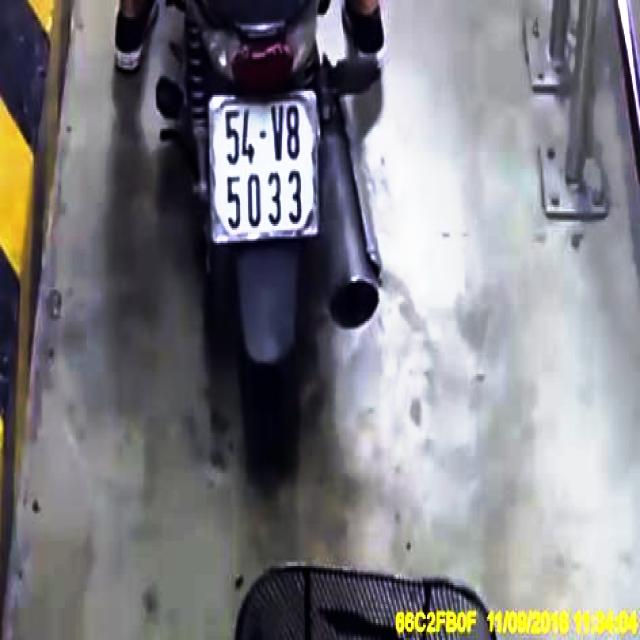license_plate: (211, 95, 319, 241)
